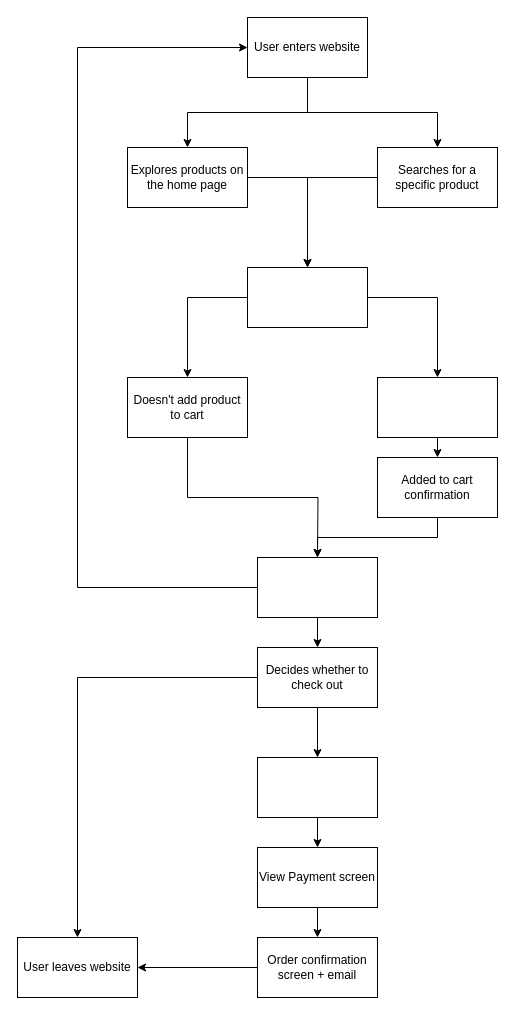
Some shapes in this 515 by 1015 pixel diagram are drawn without their labels. Here are the shapes that lost their labels. From the top down, the box of each, then its label:
(246, 266, 368, 328): Views a specific product
(376, 376, 498, 438): Adds product to cart
(256, 556, 378, 618): Decides whether to continue shopping
(256, 756, 378, 818): View Cart screen
